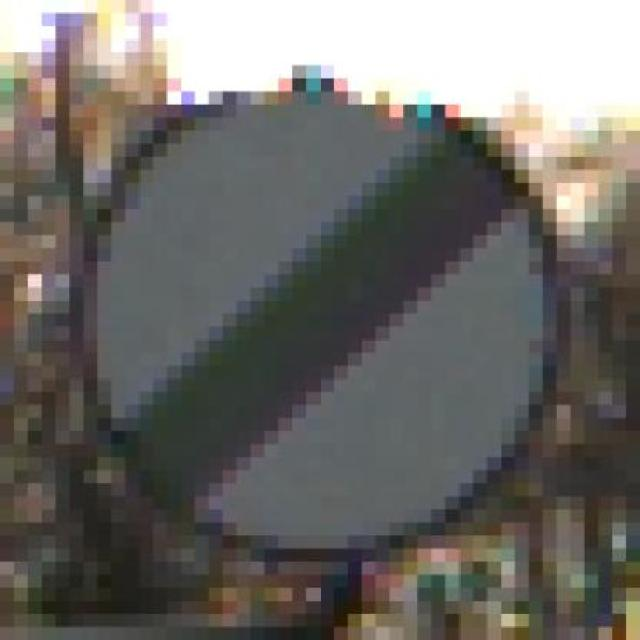End of all speed and passing limits: (69, 79, 571, 562)
